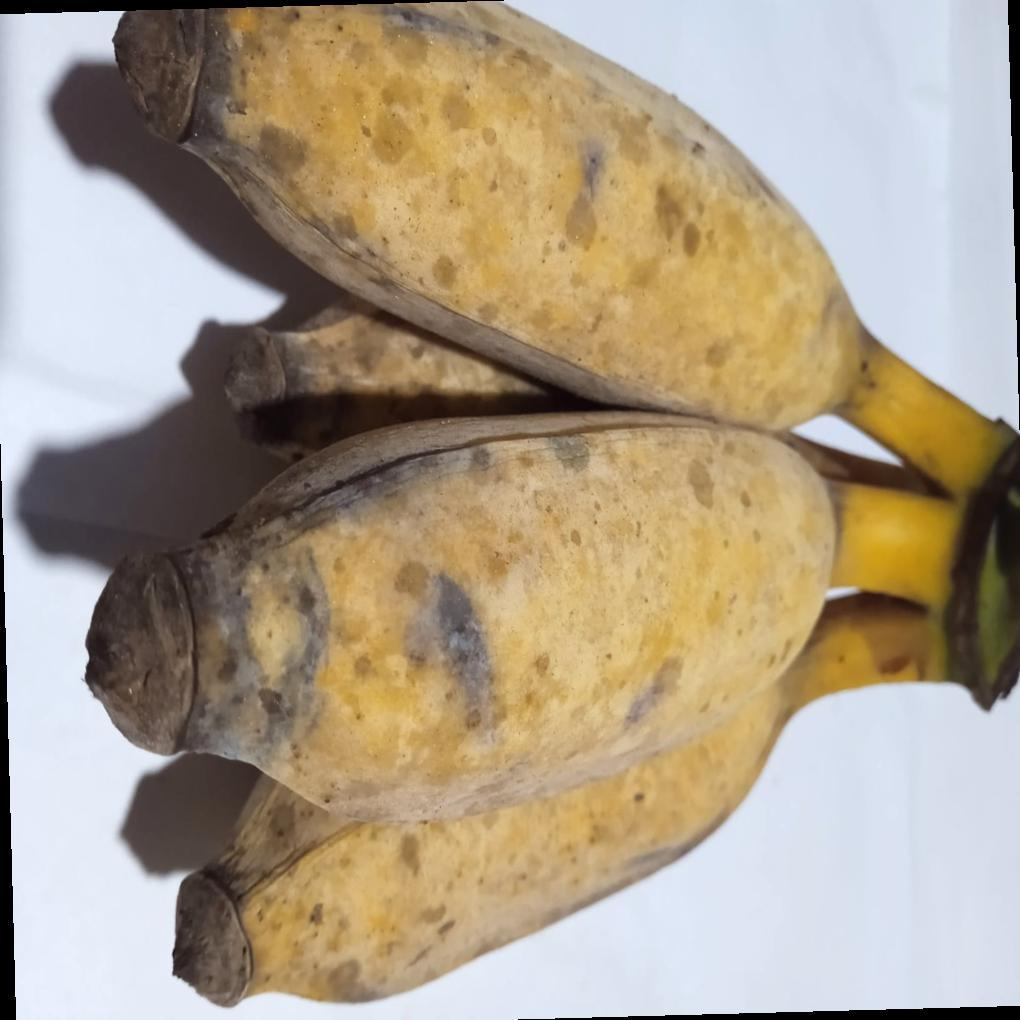Banana Ripe: (62, 13, 1020, 1020), (119, 7, 1020, 519), (86, 381, 1020, 824)
